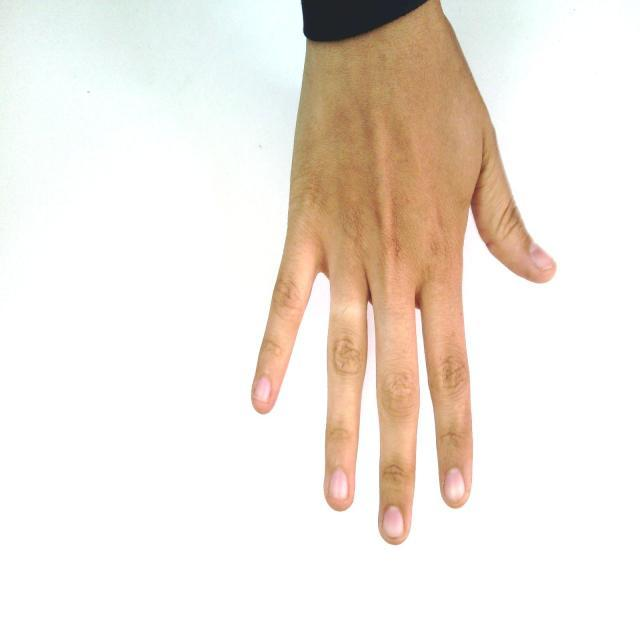Fingernail: (445, 469, 465, 501), (383, 506, 403, 537), (330, 469, 348, 501), (532, 245, 555, 269), (255, 377, 270, 400)
